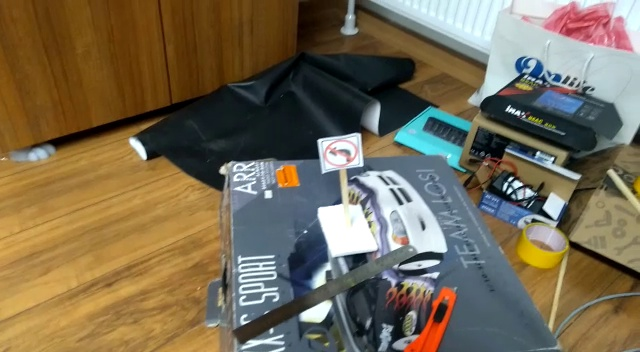sola_donulmez: (322, 138, 359, 170)
